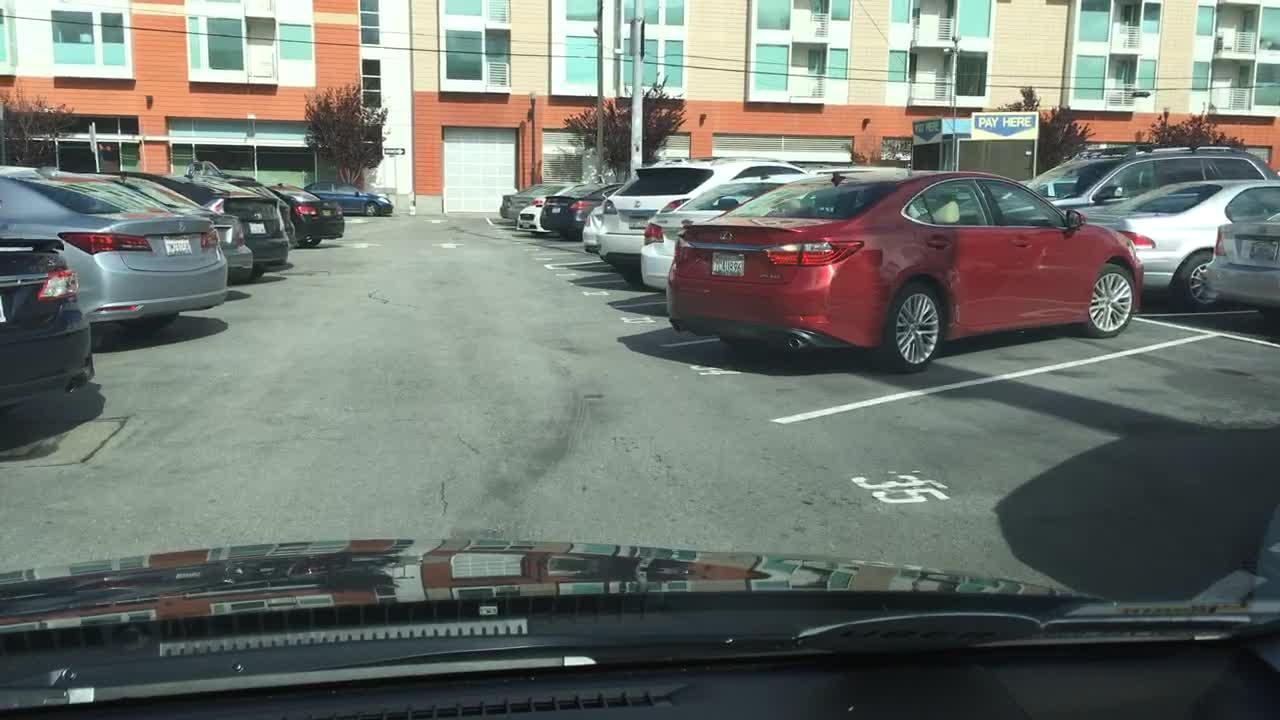chevrolet: (679, 217, 695, 229)
lexus: (708, 224, 741, 245)
